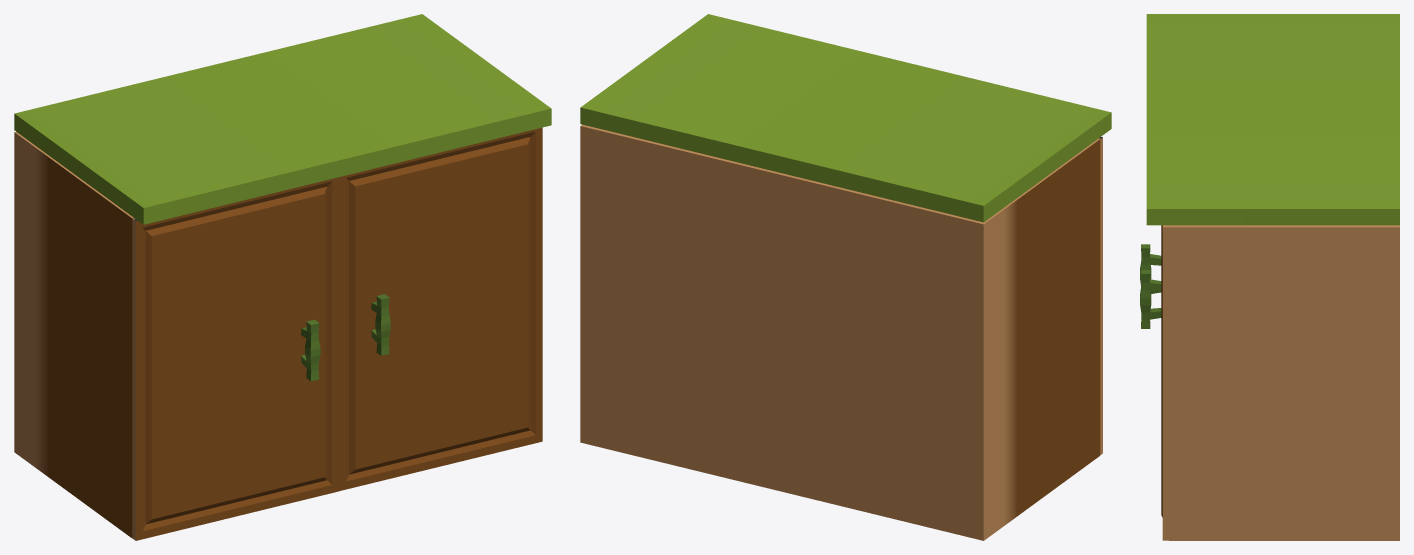
Rendered from KitchenTabletop1_03.fbx.
The picture shows the model from 3 angles, left to right: view 1: azimuth 30°, elevation 25°; view 2: azimuth 150°, elevation 25°; view 3: azimuth 270°, elevation 25°; orthographic projection. The views are drawn at different scales.
Parts seen in each view (by area): view 1: KitchenTabletop1_03; view 2: KitchenTabletop1_03; view 3: KitchenTabletop1_03.
Part boxes in pixels (x1,y1,x2,y2): KitchenTabletop1_03: (14,14,551,540); KitchenTabletop1_03: (580,14,1111,540); KitchenTabletop1_03: (1140,14,1399,540).
Bounding box in the file's own units: 1.11 × 0.8833 × 0.6262.
